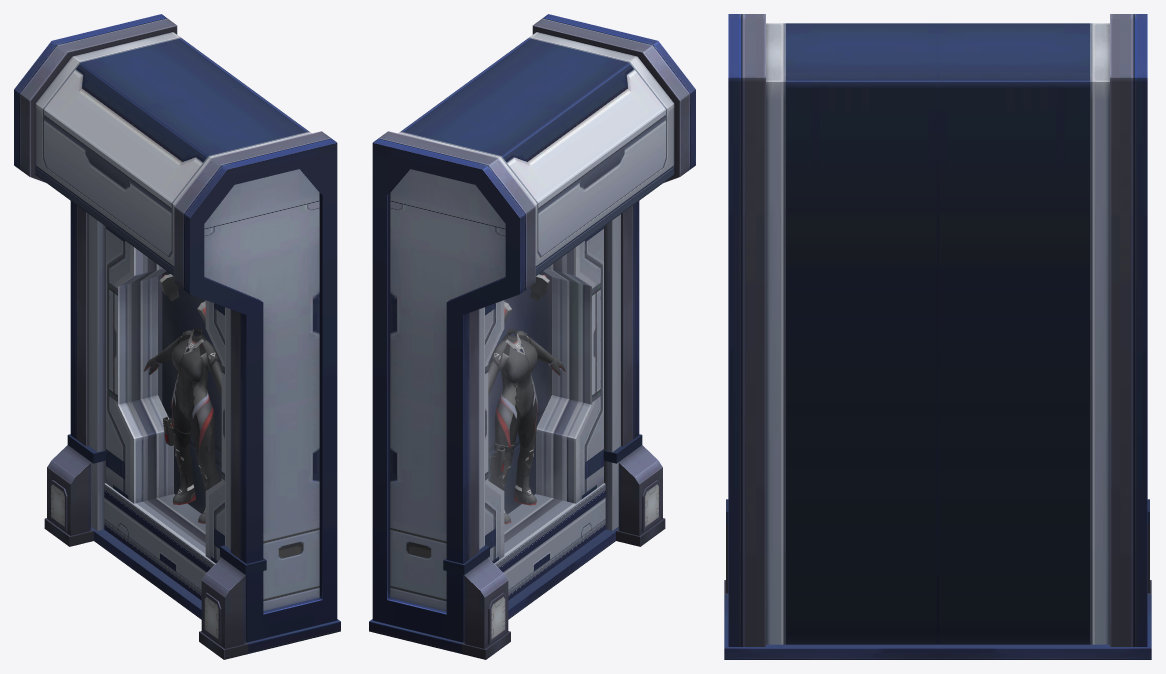
Rendered from my_carrier_01_suitcase_02.glb.
3 views of the same model, side by side, from view 1: azimuth 30°, elevation 25°; view 2: azimuth 150°, elevation 25°; view 3: azimuth 270°, elevation 25° (orthographic). The views are drawn at different scales.
Parts seen in each view (by area): view 1: my_carrier_01_suitcase_02.001, my_carrier_01_suitcase_02_a, my_carrier_01_suitcase_02_suit; view 2: my_carrier_01_suitcase_02.001, my_carrier_01_suitcase_02_a, my_carrier_01_suitcase_02_suit; view 3: my_carrier_01_suitcase_02.001.
Part boxes in pixels (x1,y1,x2,y2): my_carrier_01_suitcase_02.001: (14, 14, 340, 659); my_carrier_01_suitcase_02_a: (126, 254, 221, 546); my_carrier_01_suitcase_02_suit: (144, 274, 221, 523); my_carrier_01_suitcase_02.001: (369, 14, 695, 659); my_carrier_01_suitcase_02_a: (488, 254, 583, 546); my_carrier_01_suitcase_02_suit: (488, 274, 565, 524); my_carrier_01_suitcase_02.001: (724, 14, 1151, 659).
Bounding box in the file's own units: 0.00574 × 0.0179 × 0.012.
2 materials, 2 textured.
